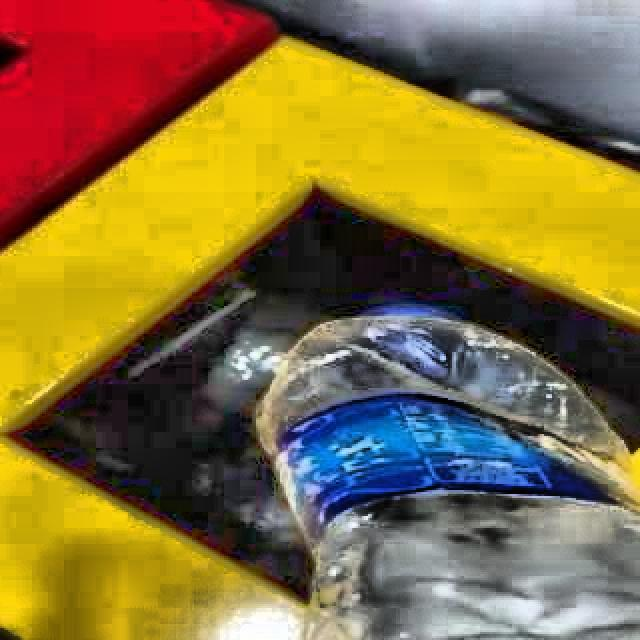plastic: (256, 308, 640, 640)
